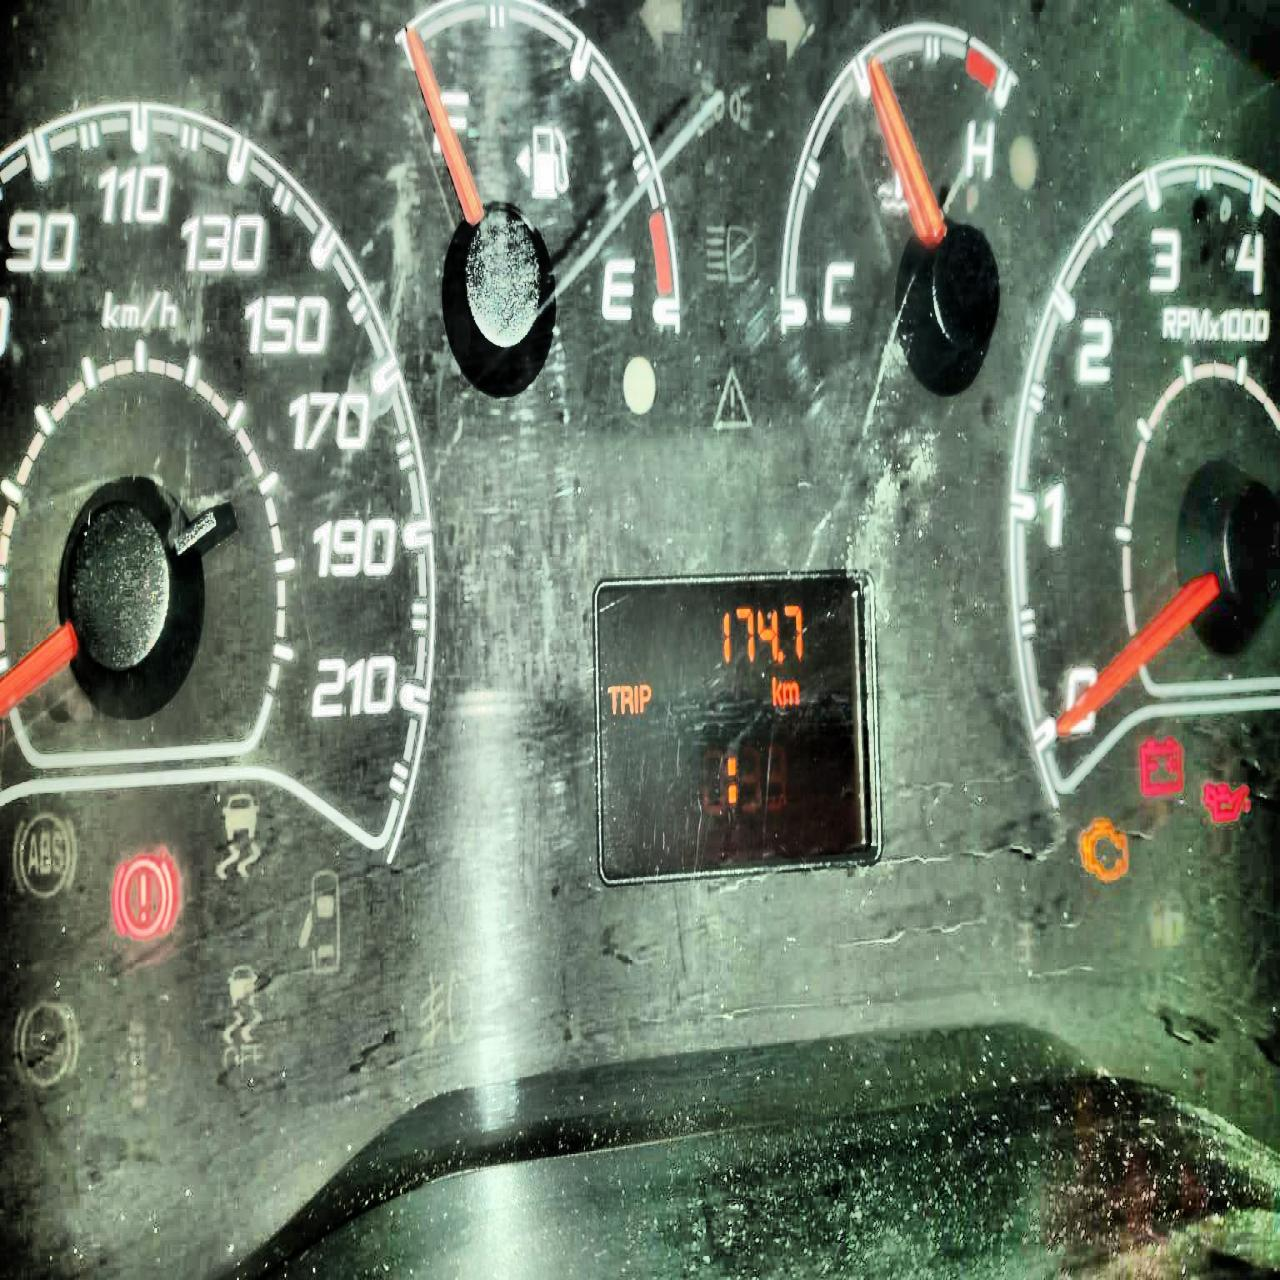-: (776, 648, 783, 662)
7: (783, 605, 803, 660)
X: (756, 606, 777, 659), (735, 606, 754, 662), (724, 754, 737, 805), (722, 607, 730, 662), (606, 685, 620, 715), (620, 683, 633, 716), (782, 681, 798, 703), (639, 683, 651, 714), (771, 675, 782, 706), (633, 683, 638, 716)
odometer: (588, 564, 884, 888)
